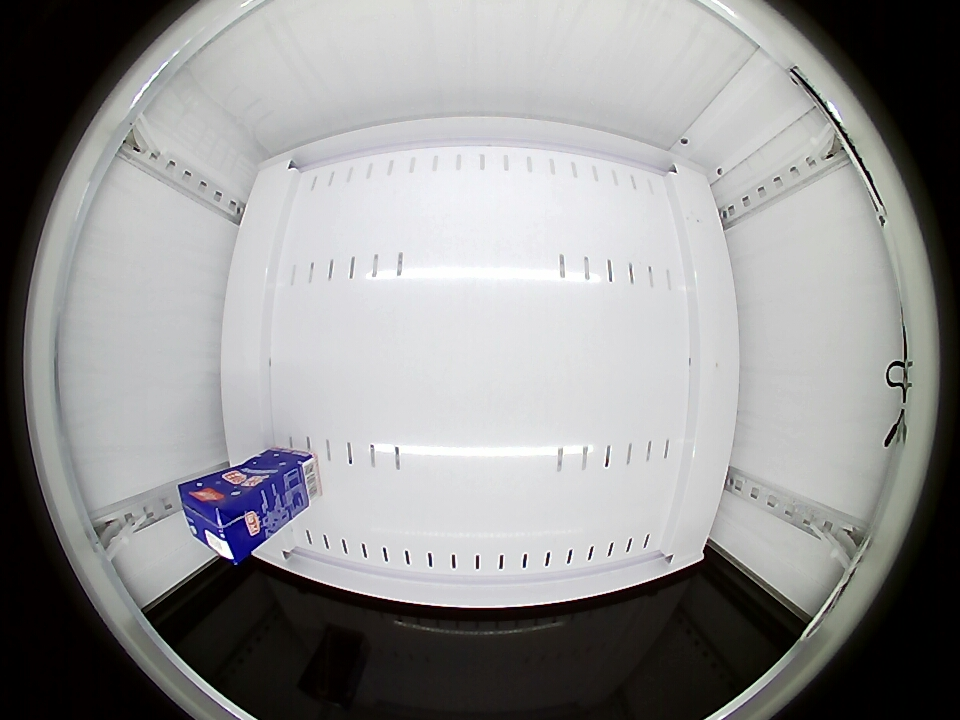bingqilinniunai: (179, 477, 266, 563)
